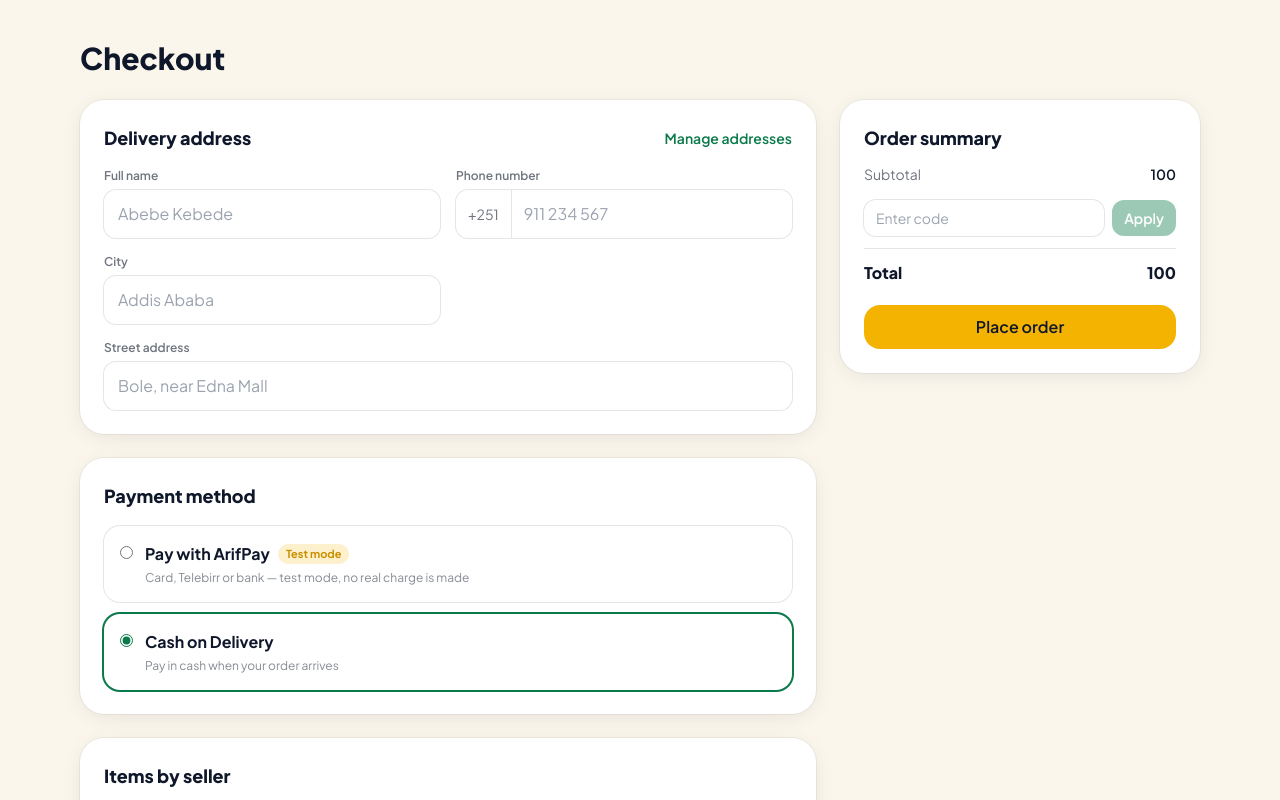
Scenario: Checkout › shows an error for an invalid coupon and leaves the total unchanged
Type "BOGUS" into the field named "Coupon code" at (984, 218), box [864,200,1104,236]
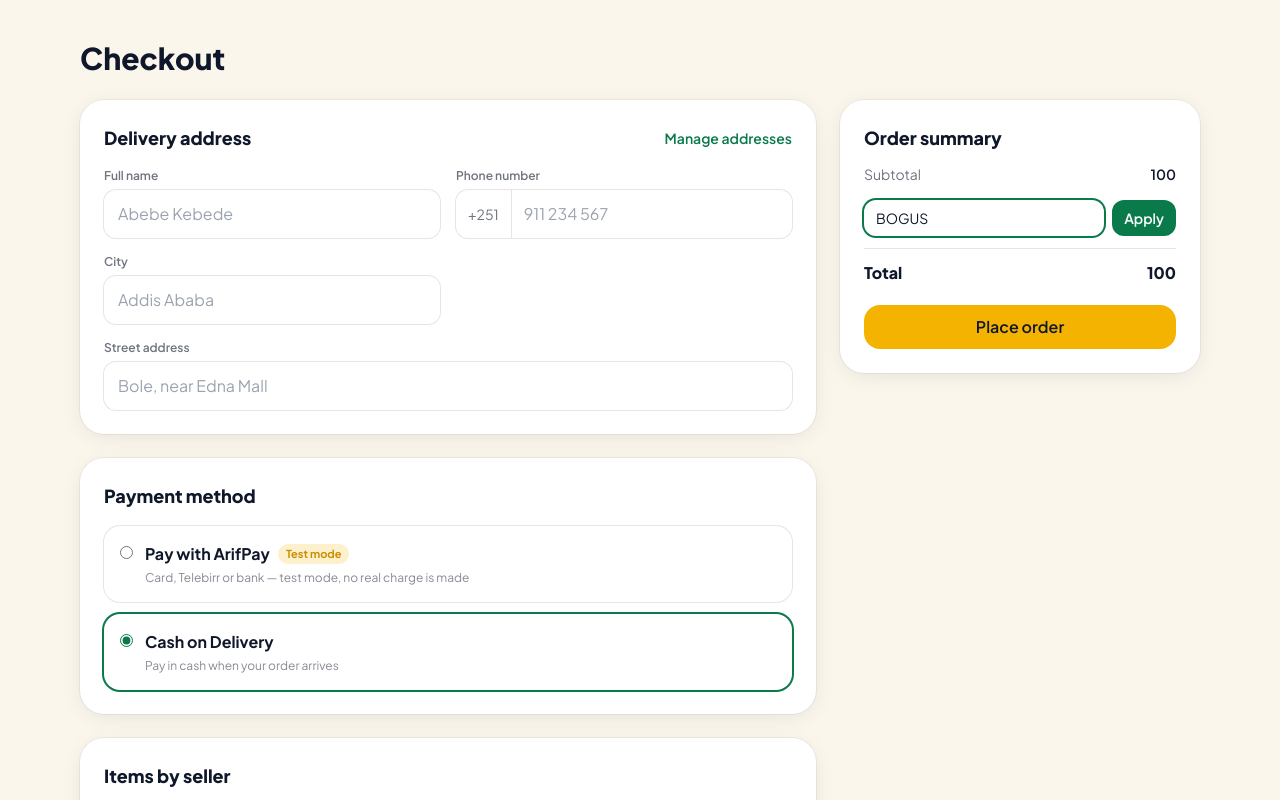
Click the button "Apply" at (1144, 218), box [1112,200,1176,236]
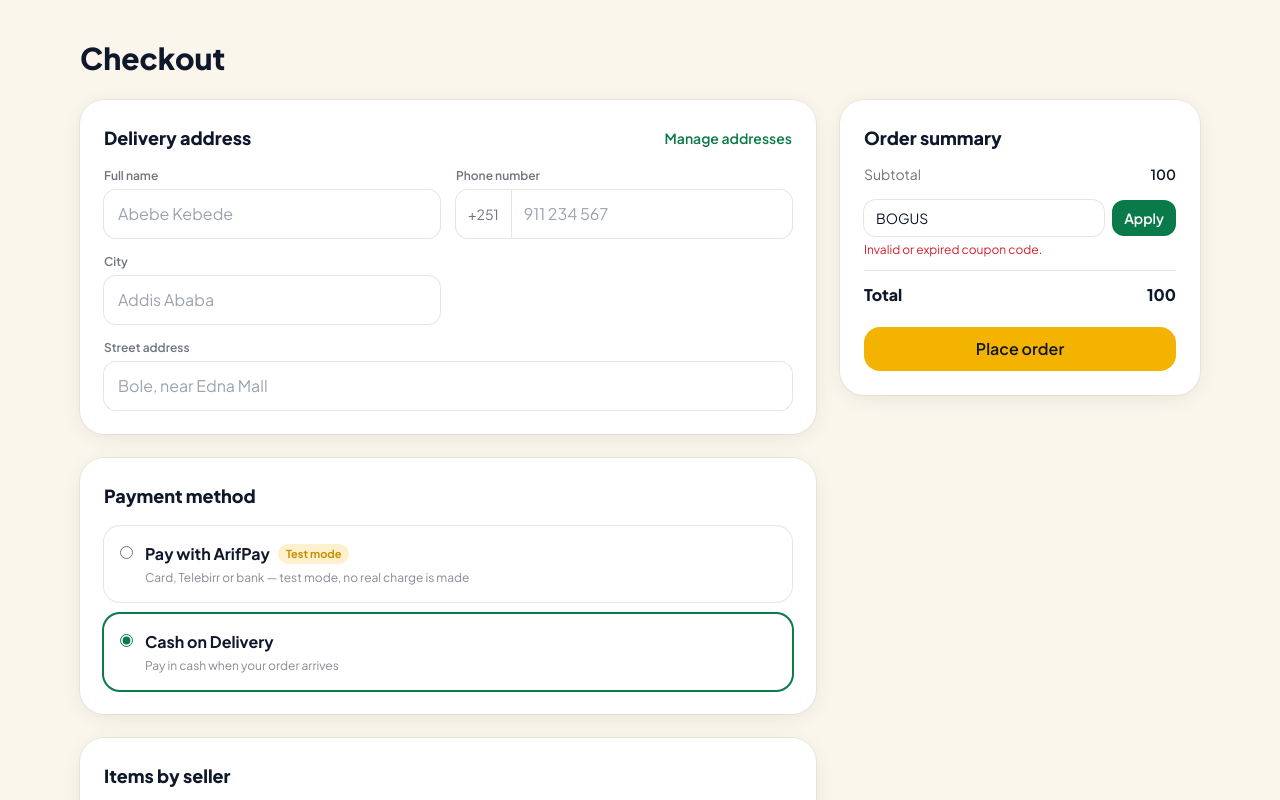
Now the text "Invalid or expired coupon code." is shown, box [864,242,1042,257]
